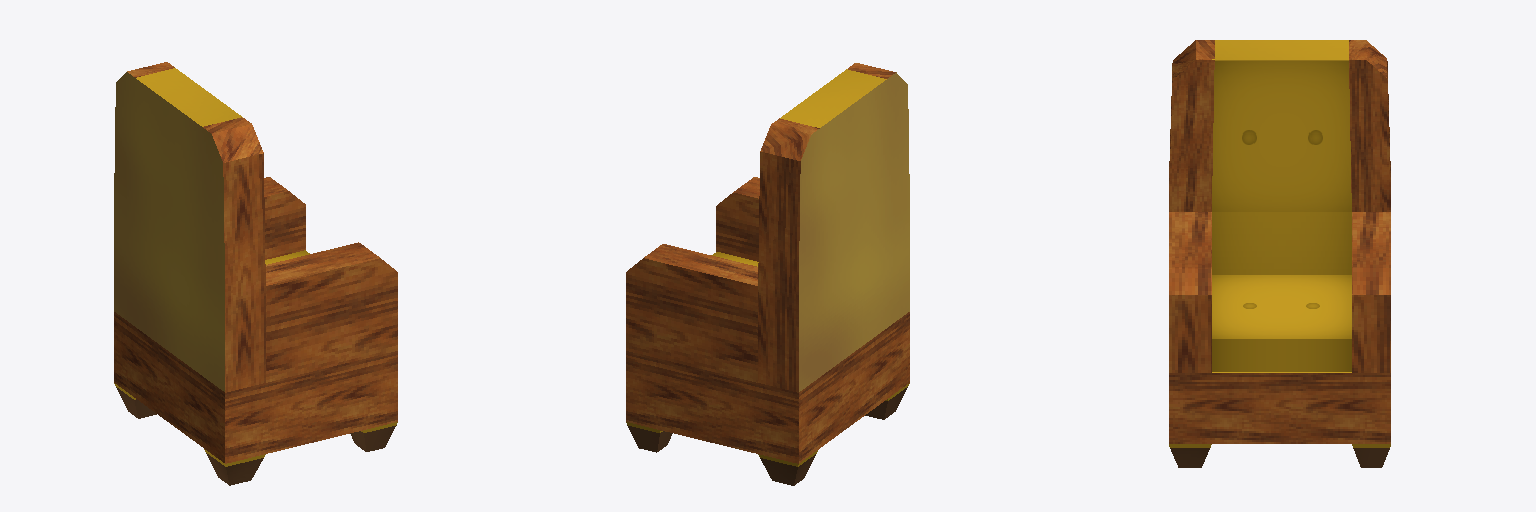
3 renders of one model, left to right at view 1: azimuth 30°, elevation 25°; view 2: azimuth 150°, elevation 25°; view 3: azimuth 270°, elevation 25°, orthographic.
Visible parts, largest first — view 1: Chair_Cube.001; view 2: Chair_Cube.001; view 3: Chair_Cube.001, Cushion_Cube.002.
Boxes of the visible parts, box(x1,y1,x2,y2) form: Chair_Cube.001: box(114, 62, 397, 485); Chair_Cube.001: box(626, 63, 909, 485); Chair_Cube.001: box(1169, 40, 1390, 467); Cushion_Cube.002: box(1212, 275, 1351, 371).
Bounding box in the file's own units: 2.68 × 5.16 × 2.99.
Materials: 1 (1 with a texture image).